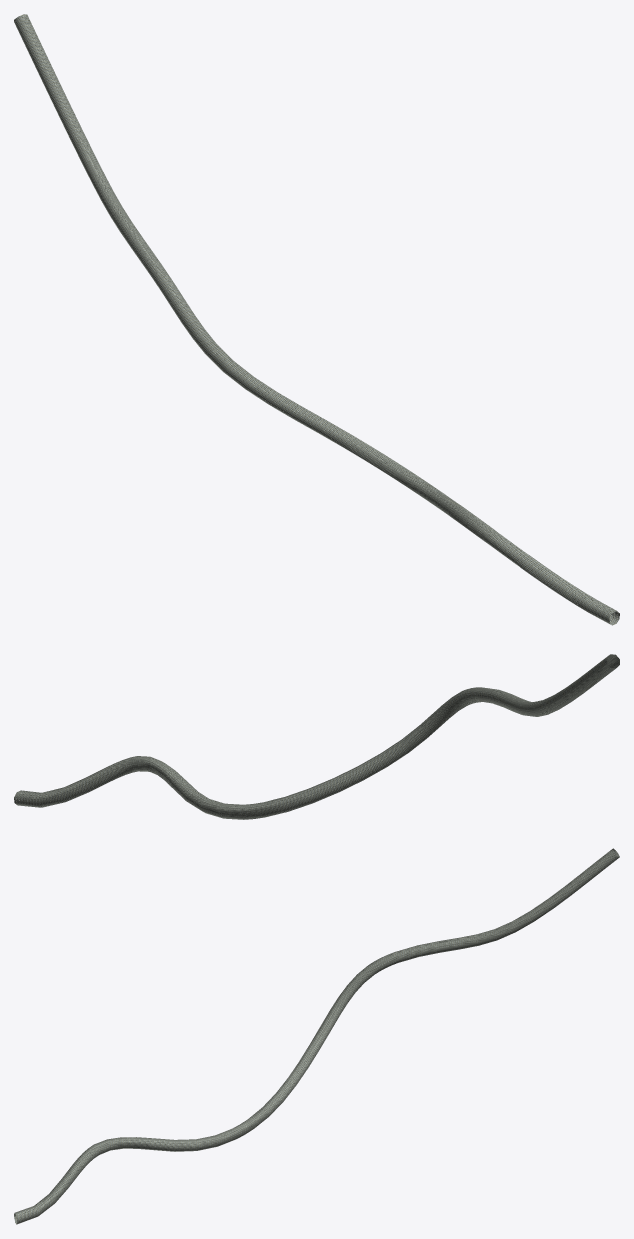
Rendered from microtubule16.fbx.
The picture shows the model from 3 angles, top to bottom: view 1: azimuth 30°, elevation 25°; view 2: azimuth 210°, elevation 25°; view 3: azimuth 270°, elevation 25°; orthographic projection. The views are drawn at different scales.
Parts seen in each view (by area): view 1: microtubule16; view 2: microtubule16; view 3: microtubule16.
Boxes of the visible parts, left/top/right/bottom form: microtubule16: left=14, top=14, right=619, bottom=625; microtubule16: left=14, top=654, right=619, bottom=819; microtubule16: left=14, top=848, right=619, bottom=1224.
Size of the model in its own units: 2575 by 4045 by 7507.
1 material, 1 textured.
